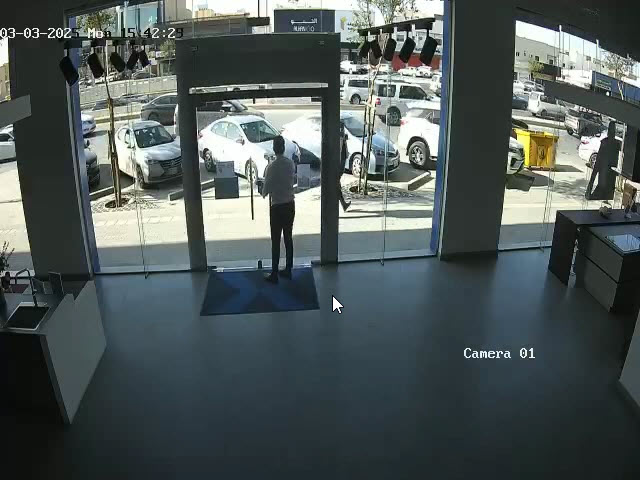male: (260, 135, 297, 283)
